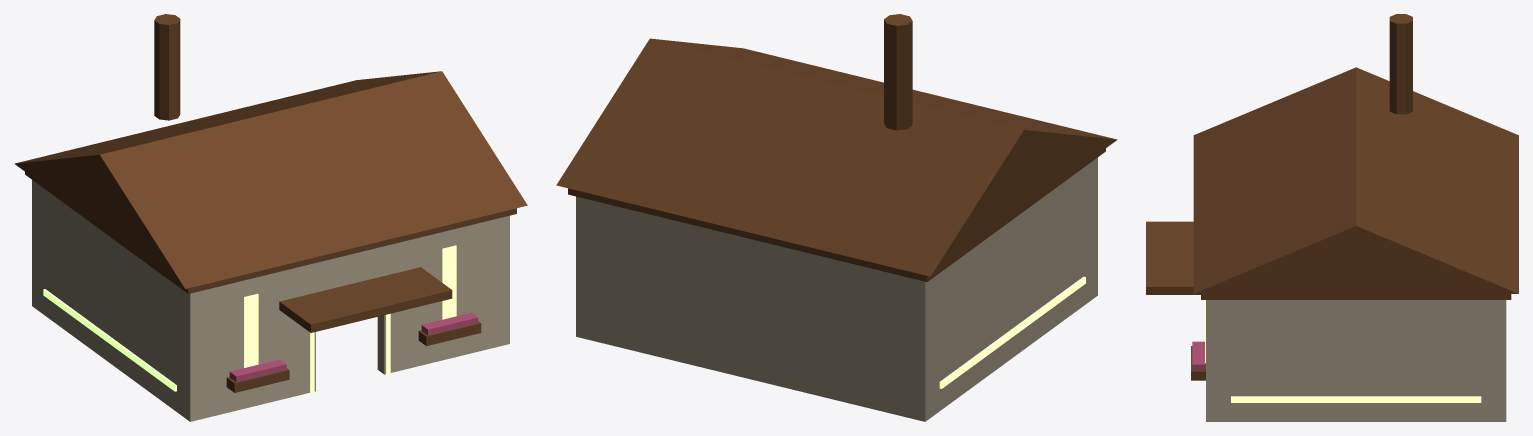
The model's file is shaddai_dist_meadow_b4_v01.glb.
3 views of the same model, side by side, from view 1: azimuth 30°, elevation 25°; view 2: azimuth 150°, elevation 25°; view 3: azimuth 270°, elevation 25° (orthographic). The views are drawn at different scales.
Visible parts, largest first — view 1: shaddai_dist_meadow_b4; view 2: shaddai_dist_meadow_b4; view 3: shaddai_dist_meadow_b4.
Part boxes in pixels (x1=…): shaddai_dist_meadow_b4: x1=14, y1=14, x2=527, y2=421; shaddai_dist_meadow_b4: x1=556, y1=14, x2=1117, y2=421; shaddai_dist_meadow_b4: x1=1146, y1=14, x2=1518, y2=421.
Size of the model in its own units: 15 by 12.88 by 14.9.
